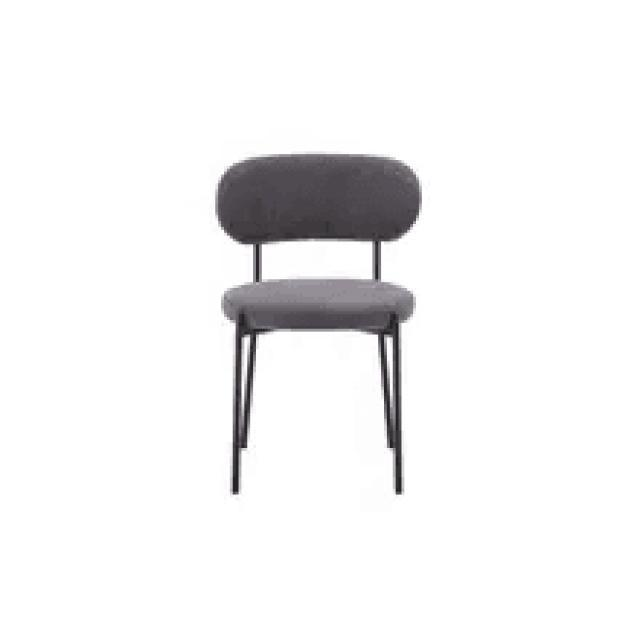chair: (214, 143, 420, 503), (216, 153, 422, 329)
